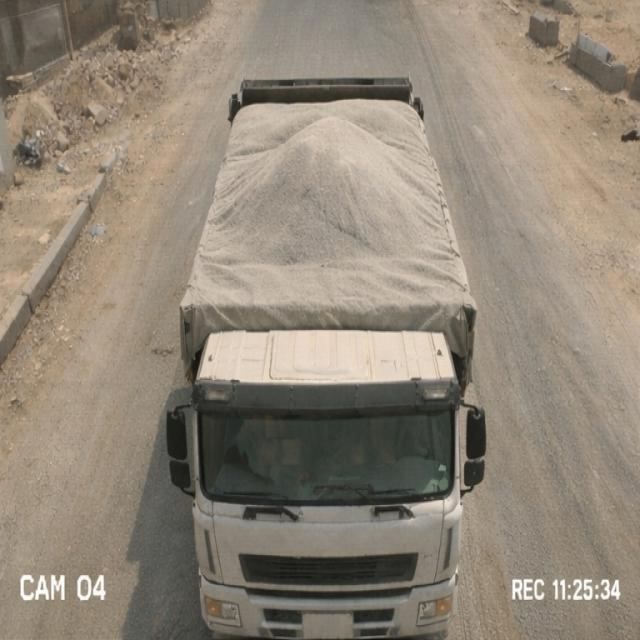Box: (183, 74, 474, 326)
Truck: (162, 42, 476, 637)
